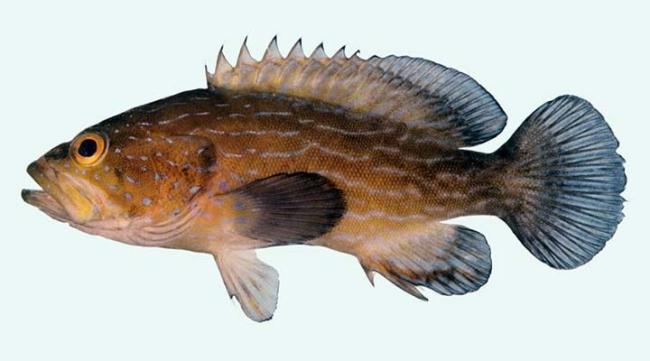fish: (20, 35, 628, 322)
